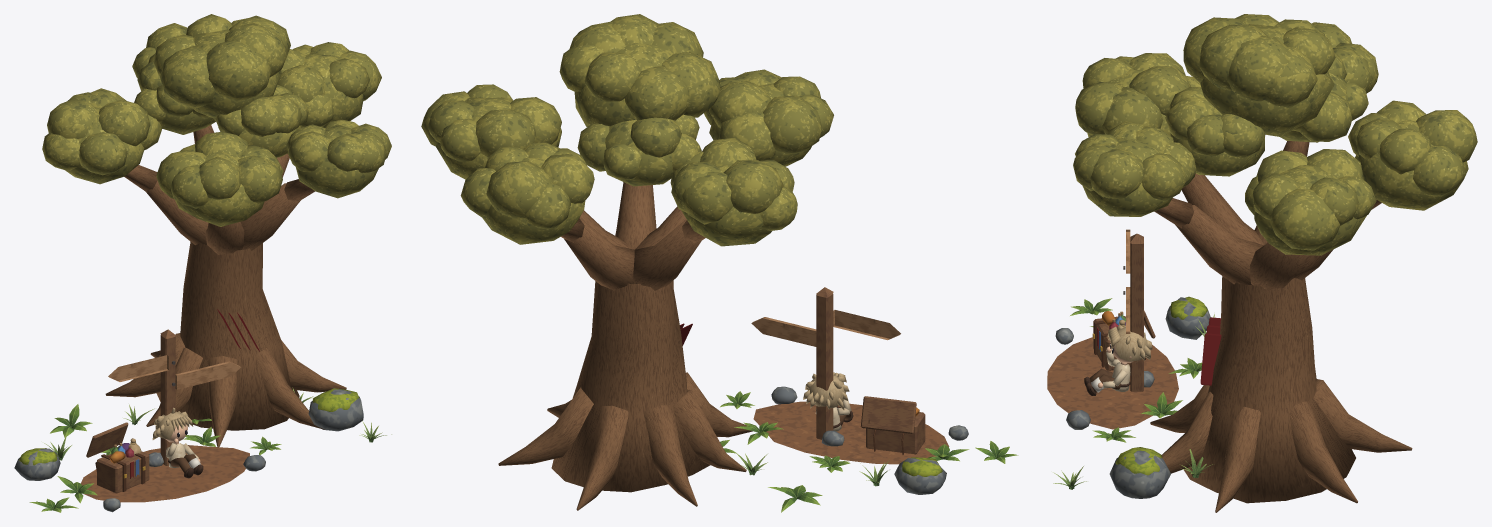
File: ev02_peddler.glb
3 views of the same model, side by side, from view 1: azimuth 30°, elevation 25°; view 2: azimuth 150°, elevation 25°; view 3: azimuth 270°, elevation 25° (orthographic). The views are drawn at different scales.
Parts seen in each view (by area): view 1: ev02_peddler_tree_crown, ev02_peddler_tree_trunk, ev02_peddler_ground_details, ev02_peddler_signpost, ev02_peddler_plants, ev02_peddler_pack, ev02_peddler_peddler, ev02_peddler_goods; view 2: ev02_peddler_tree_crown, ev02_peddler_tree_trunk, ev02_peddler_ground_details, ev02_peddler_signpost, ev02_peddler_pack, ev02_peddler_plants, ev02_peddler_peddler; view 3: ev02_peddler_tree_crown, ev02_peddler_tree_trunk, ev02_peddler_ground_details, ev02_peddler_signpost, ev02_peddler_peddler, ev02_peddler_plants, ev02_peddler_pack.
Part boxes in pixels (bbox=[...]): ev02_peddler_tree_crown: bbox=[42, 14, 391, 226]; ev02_peddler_tree_trunk: bbox=[105, 125, 346, 447]; ev02_peddler_ground_details: bbox=[14, 388, 363, 512]; ev02_peddler_signpost: bbox=[108, 329, 240, 466]; ev02_peddler_plants: bbox=[29, 387, 391, 512]; ev02_peddler_pack: bbox=[86, 422, 149, 493]; ev02_peddler_peddler: bbox=[152, 407, 203, 478]; ev02_peddler_goods: bbox=[109, 438, 141, 478]; ev02_peddler_tree_crown: bbox=[421, 14, 833, 246]; ev02_peddler_tree_trunk: bbox=[498, 182, 752, 510]; ev02_peddler_ground_details: bbox=[753, 386, 968, 494]; ev02_peddler_signpost: bbox=[751, 287, 900, 446]; ev02_peddler_pack: bbox=[860, 396, 925, 454]; ev02_peddler_plants: bbox=[720, 391, 1018, 512]; ev02_peddler_peddler: bbox=[803, 372, 853, 431]; ev02_peddler_tree_crown: bbox=[1073, 14, 1477, 255]; ev02_peddler_tree_trunk: bbox=[1150, 141, 1412, 512]; ev02_peddler_ground_details: bbox=[1047, 296, 1210, 498]; ev02_peddler_signpost: bbox=[1123, 229, 1154, 391]; ev02_peddler_peddler: bbox=[1084, 324, 1152, 395]; ev02_peddler_plants: bbox=[1053, 298, 1214, 489]; ev02_peddler_pack: bbox=[1092, 310, 1155, 370].
Size of what is drawn, in the model's own units: 8.39 by 7.15 by 6.24.
32 materials, 32 textured.
